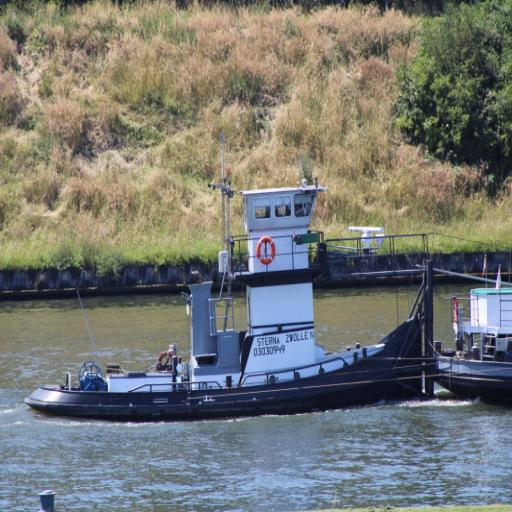tugboat: (20, 126, 447, 434)
